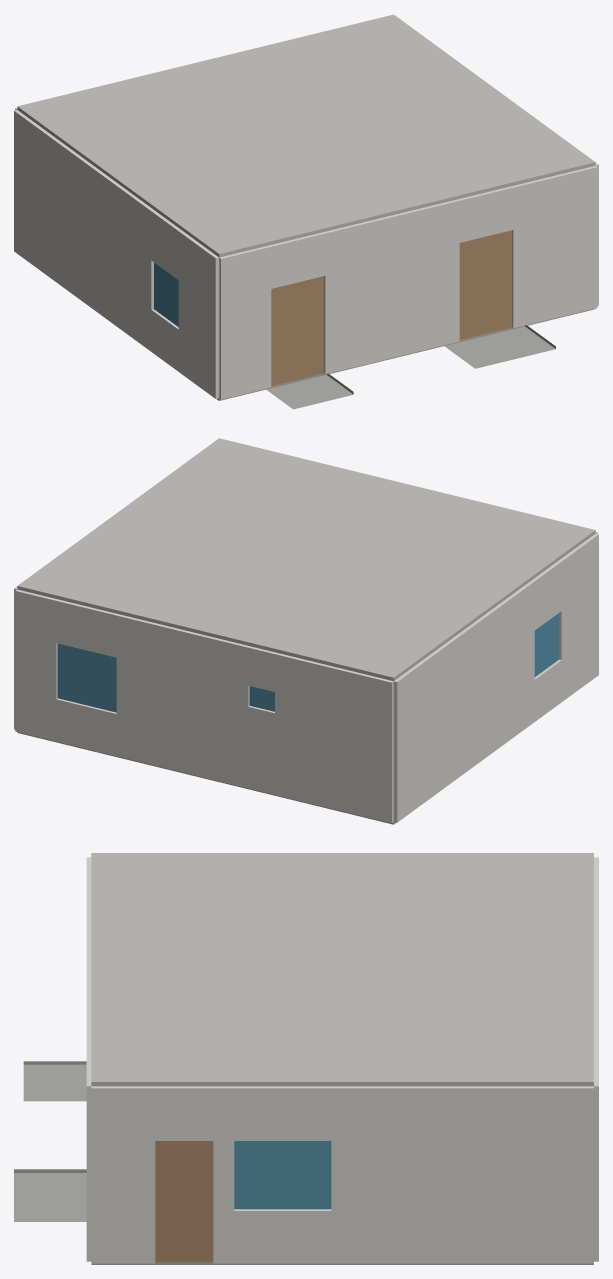
File: 1BHK_06.glb
3 renders of one model, top to bottom at view 1: azimuth 30°, elevation 25°; view 2: azimuth 150°, elevation 25°; view 3: azimuth 270°, elevation 25°, orthographic. The views are drawn at different scales.
Parts seen in each view (by area): view 1: Roof, Wall_W003, Wall_W001, Wall_W010, Wall_W002, Wall_W007, Door_D_BAL_01, Door_D_BAL_02, Balcony_BAL_MAIN, Balcony_BAL_DRY, Window_WN02, Floor; view 2: Roof, Wall_W018, Wall_W010, Wall_W016, Wall_W017, Wall_W002, Wall_W007, Window_WN03, Window_WN02, Floor, Window_WN04; view 3: Roof, Wall_W015, Wall_W005, Door_D_ENTRY, Window_WN01, Balcony_BAL_MAIN, Balcony_BAL_DRY, Wall_W003, Wall_W018, Floor, Wall_W001.
Part boxes in pixels (x1,y1,x2,y2): Roof: [17, 14, 595, 257]; Wall_W003: [374, 166, 597, 361]; Wall_W001: [219, 220, 375, 399]; Wall_W010: [14, 110, 105, 315]; Wall_W002: [141, 203, 219, 398]; Wall_W007: [102, 175, 143, 343]; Door_D_BAL_01: [459, 230, 511, 339]; Door_D_BAL_02: [271, 276, 323, 385]; Balcony_BAL_MAIN: [444, 325, 555, 368]; Balcony_BAL_DRY: [266, 373, 353, 409]; Window_WN02: [154, 262, 178, 326]; Floor: [217, 308, 595, 400]; Roof: [17, 438, 595, 681]; Wall_W018: [15, 589, 238, 785]; Wall_W010: [393, 616, 485, 822]; Wall_W016: [312, 662, 393, 823]; Wall_W017: [237, 643, 314, 803]; Wall_W002: [521, 533, 598, 729]; Wall_W007: [483, 588, 524, 757]; Window_WN03: [57, 643, 116, 712]; Window_WN02: [534, 613, 559, 676]; Floor: [17, 732, 395, 824]; Window_WN04: [249, 686, 274, 711]; Roof: [91, 853, 593, 1086]; Wall_W015: [373, 1086, 593, 1263]; Wall_W005: [91, 1086, 372, 1263]; Door_D_ENTRY: [155, 1141, 213, 1261]; Window_WN01: [234, 1141, 331, 1209]; Balcony_BAL_MAIN: [14, 1169, 86, 1221]; Balcony_BAL_DRY: [23, 1061, 86, 1101]; Wall_W003: [86, 951, 91, 1261]; Wall_W018: [594, 951, 598, 1261]; Floor: [91, 1262, 593, 1264]; Wall_W001: [86, 857, 91, 951].
Bounding box in the file's own units: 8.69 × 3.18 × 9.22.
